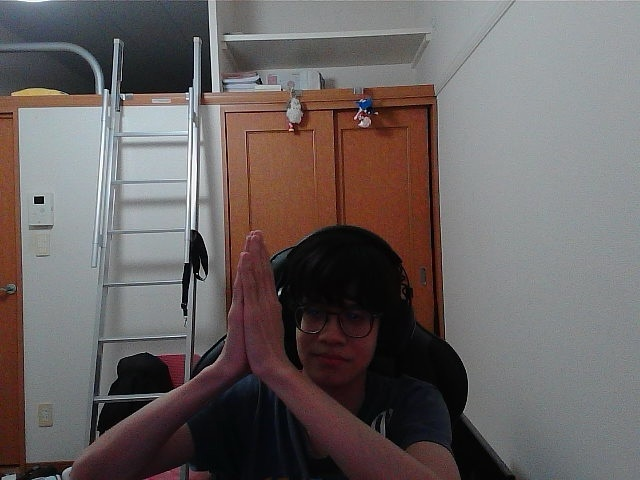pray: (241, 255, 281, 355)
